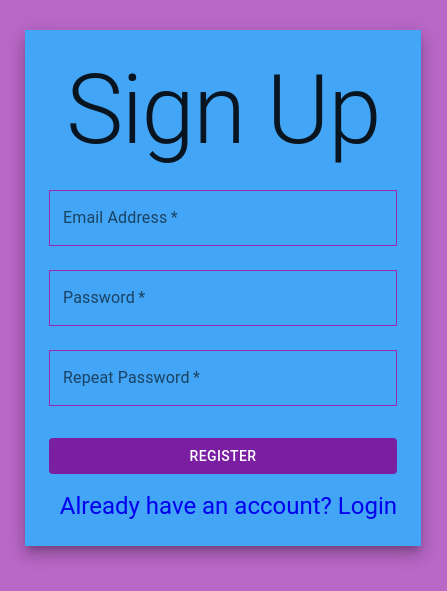
Test case: Register Page › Checks invalid Email typing
The width and height of the screenshot is (447, 591).
Type "example.com" into the field labelled "Email Address *".
click(223, 218); type("example.com")  # box [49,190,397,246]
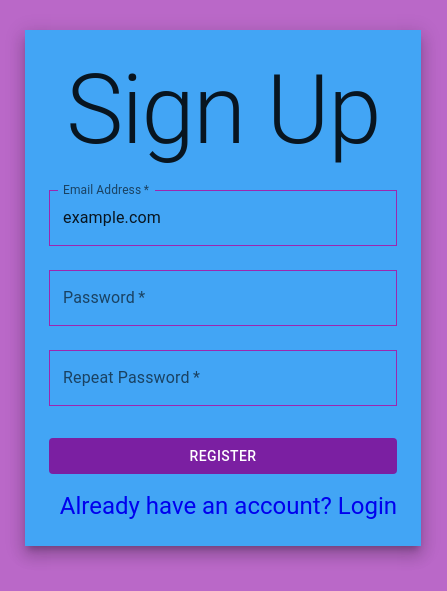
Type "123456" into the password field with test id "password-input".
click(223, 298); type("123456")  # box [49,270,397,326]
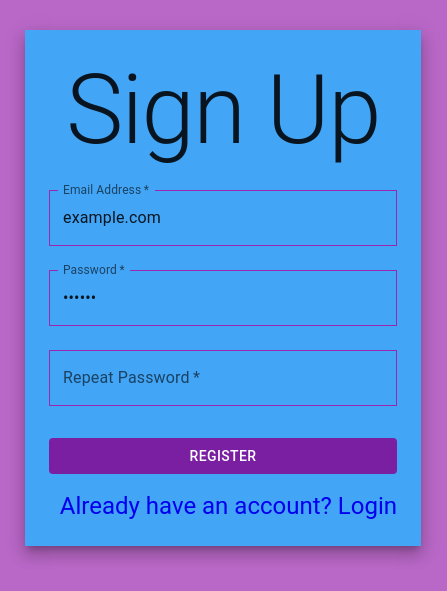
Type "123456" into the password field with test id "repeat-password-input".
click(223, 378); type("123456")  # box [49,350,397,406]
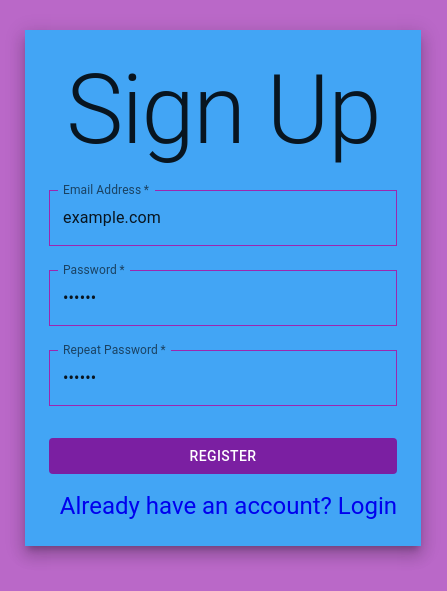
Click the button "Register".
click(223, 456)  # box [49,438,397,474]
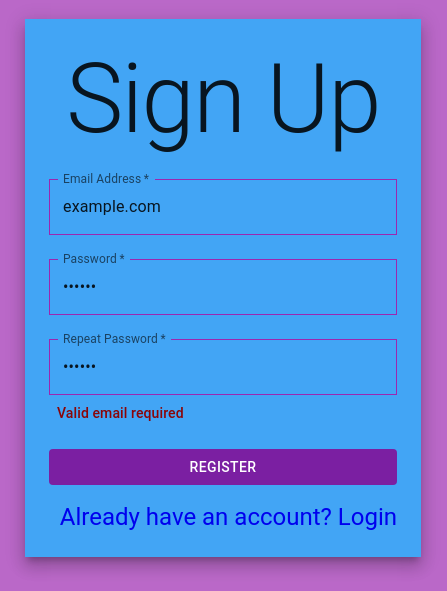
Check: the heading "Valid email required" is shown, box [57,405,184,421]
